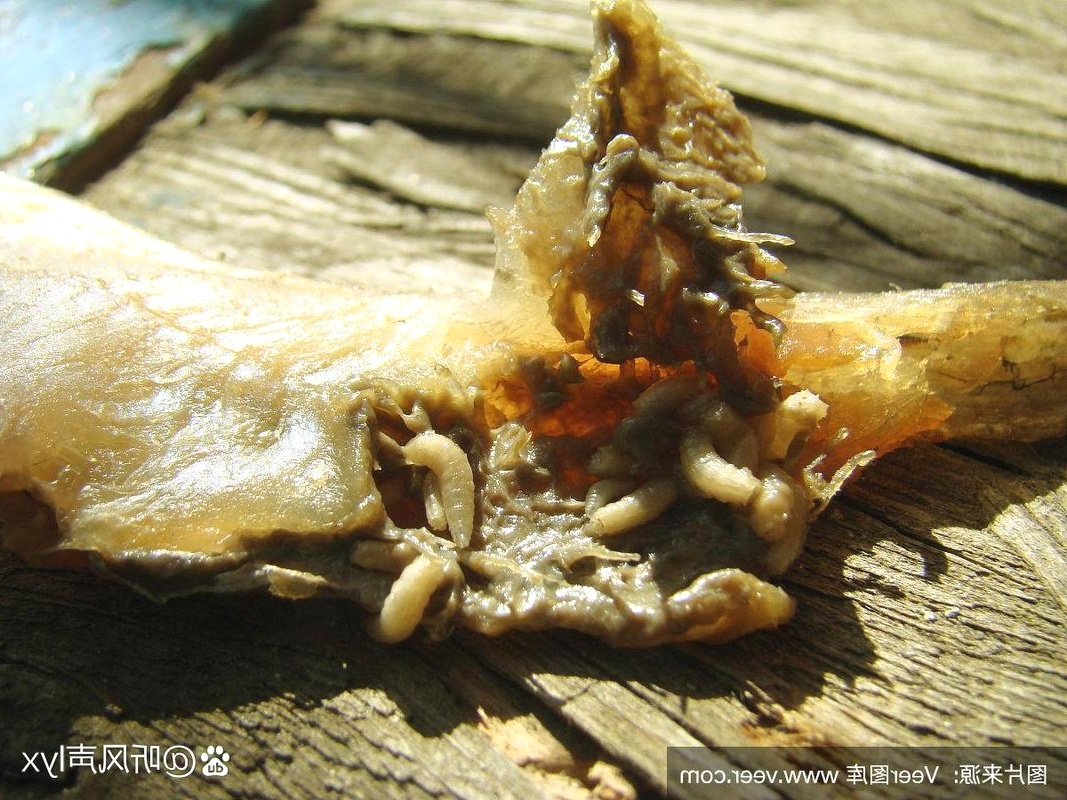Borer: (552, 370, 800, 549), (355, 405, 478, 672), (585, 129, 709, 310)
